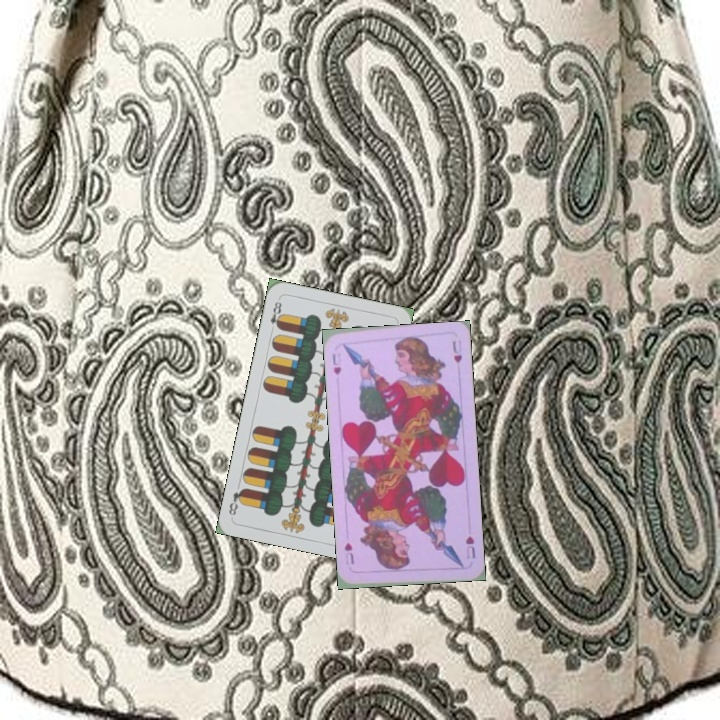E8: (266, 295, 285, 335)
HU: (462, 532, 478, 561), (328, 349, 344, 378)
